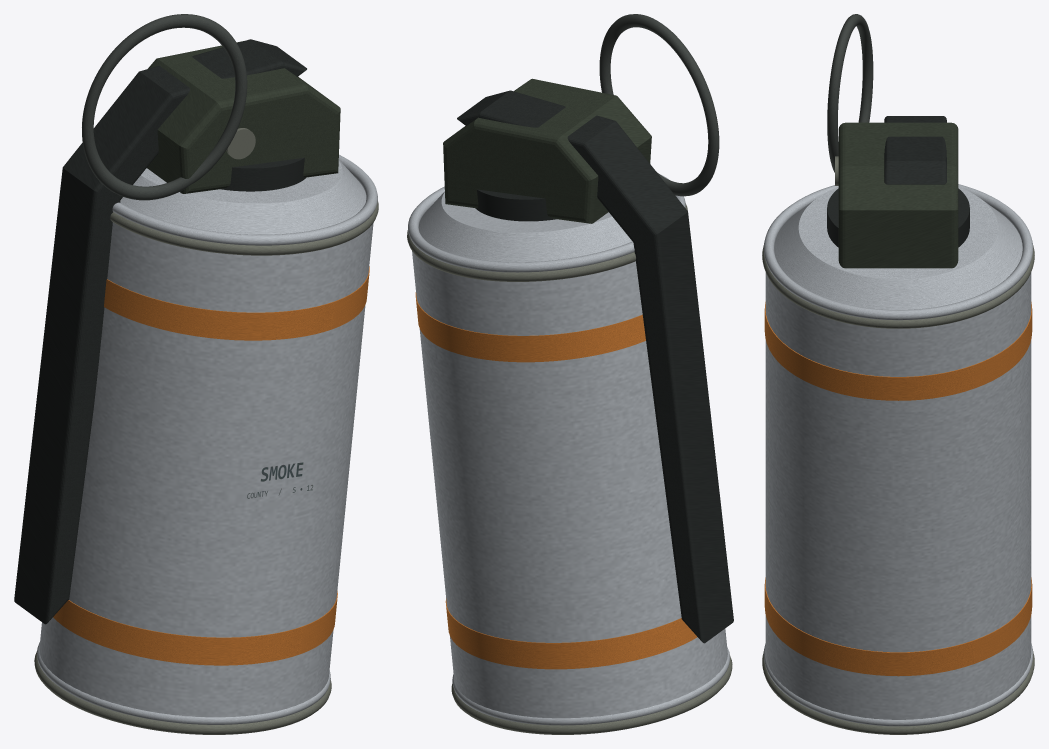
3 views of the same model, side by side, from view 1: azimuth 30°, elevation 25°; view 2: azimuth 150°, elevation 25°; view 3: azimuth 270°, elevation 25° (orthographic). The views are drawn at different scales.
Bounding box in the file's own units: 0.887 × 1.87 × 0.718.
7 materials, 7 textured.
